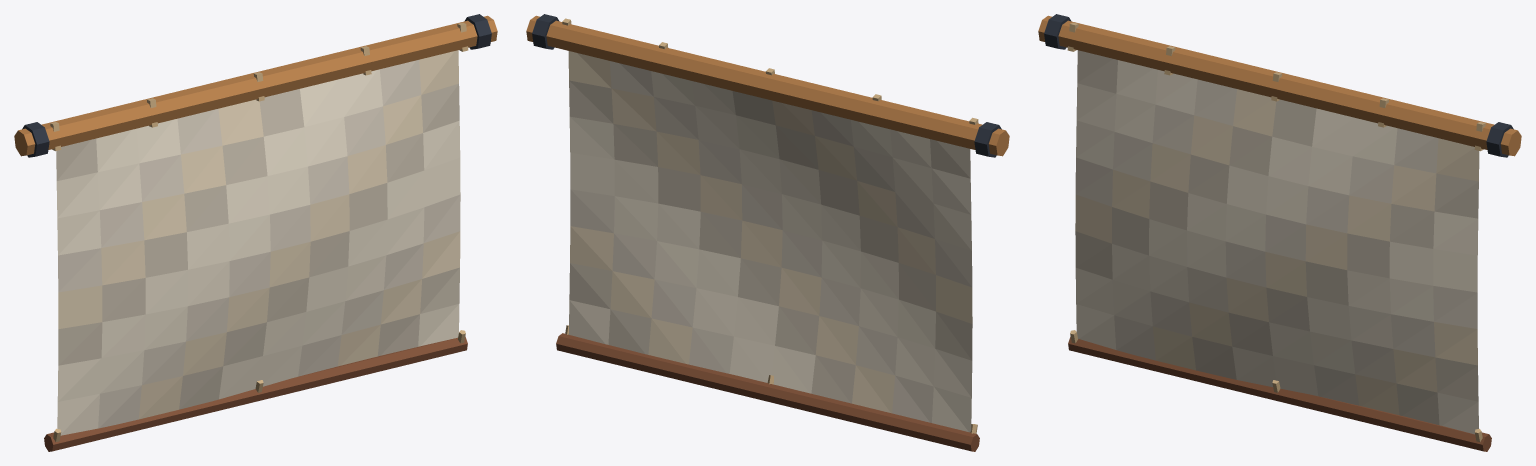
File: SailAssembly.obj
The picture shows the model from 3 angles, left to right: view 1: azimuth 30°, elevation 25°; view 2: azimuth 150°, elevation 25°; view 3: azimuth 330°, elevation 25°; orthographic projection.
Parts seen in each view (by area): view 1: SailAssembly; view 2: SailAssembly; view 3: SailAssembly.
Boxes of the visible parts, box(x1,y1,x2,y2) form: SailAssembly: box(14, 14, 497, 451); SailAssembly: box(526, 14, 1009, 451); SailAssembly: box(1038, 14, 1521, 451).
Bounding box in the file's own units: 3.74 × 2.51 × 0.3197.
Materials: 1 (1 with a texture image).
